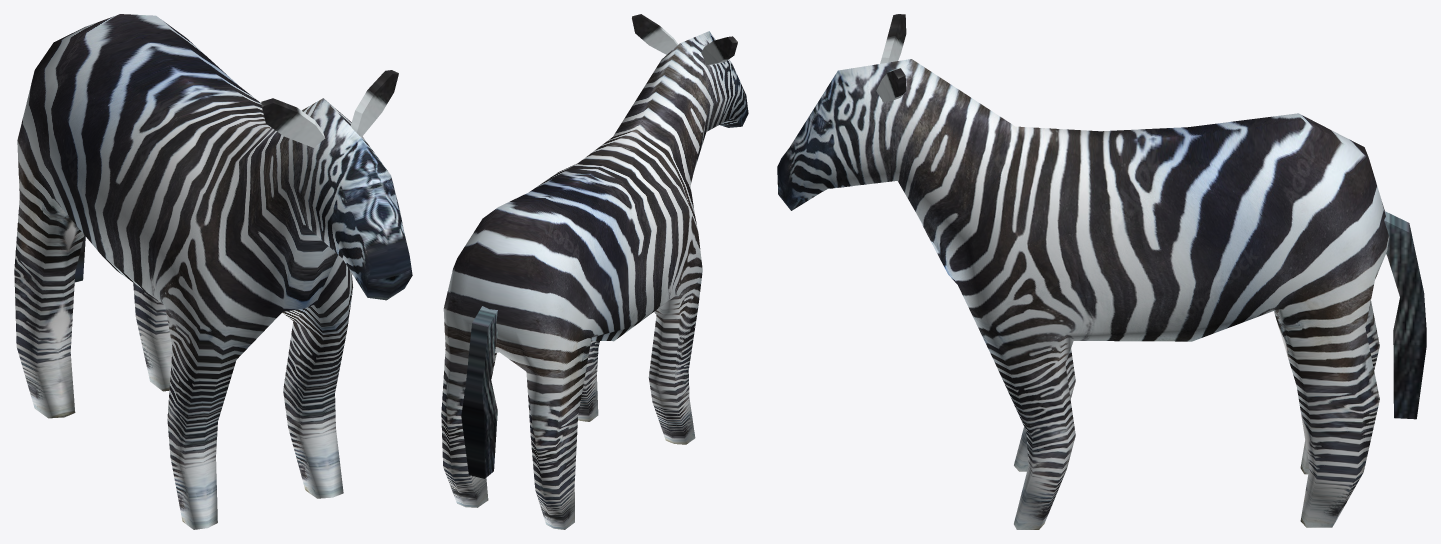
File: ZebraDoll.fbx
3 renders of one model, left to right at view 1: azimuth 30°, elevation 25°; view 2: azimuth 150°, elevation 25°; view 3: azimuth 270°, elevation 25°, orthographic. The views are drawn at different scales.
Parts seen in each view (by area): view 1: ZebraDoll; view 2: ZebraDoll; view 3: ZebraDoll.
Boxes of the visible parts, left/top/right/bottom form: ZebraDoll: left=14, top=14, right=412, bottom=529; ZebraDoll: left=441, top=14, right=748, bottom=529; ZebraDoll: left=777, top=14, right=1426, bottom=529.
Bounding box in the file's own units: 2.36 × 6.51 × 8.45.
1 material, 1 textured.
